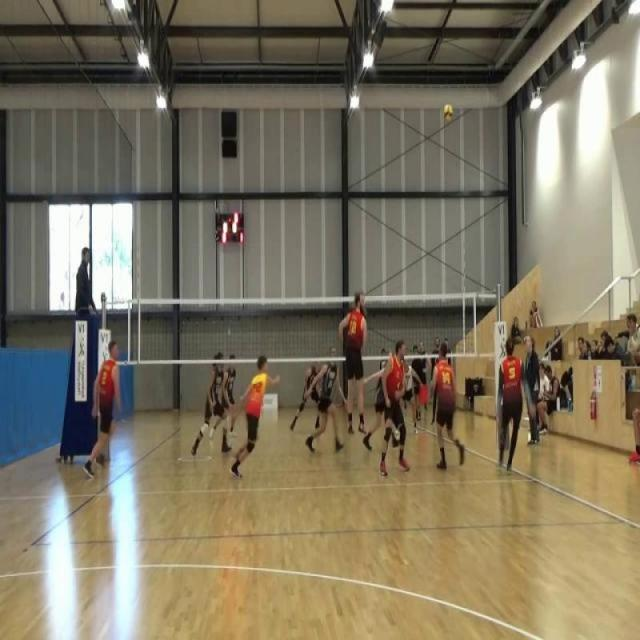volleyball: (442, 103, 454, 124)
